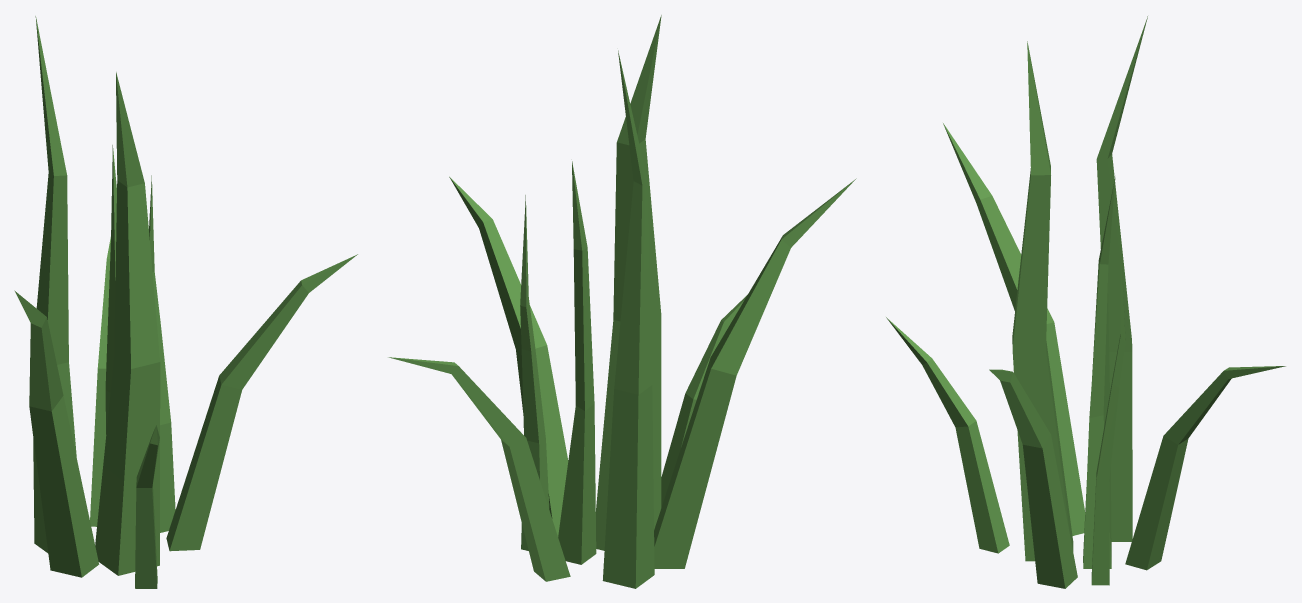
File: Grass_01.fbx
3 views of the same model, side by side, from view 1: azimuth 30°, elevation 25°; view 2: azimuth 150°, elevation 25°; view 3: azimuth 270°, elevation 25° (orthographic). The views are drawn at different scales.
Parts seen in each view (by area): view 1: Grass_01_LOD0; view 2: Grass_01_LOD0; view 3: Grass_01_LOD0.
Boxes of the visible parts, x1,y1,x2,y2 form: Grass_01_LOD0: (14, 16, 357, 588); Grass_01_LOD0: (388, 15, 856, 588); Grass_01_LOD0: (886, 16, 1285, 588).
Size of what is drawn, in the model's own units: 47.49 by 64.35 by 45.38.
